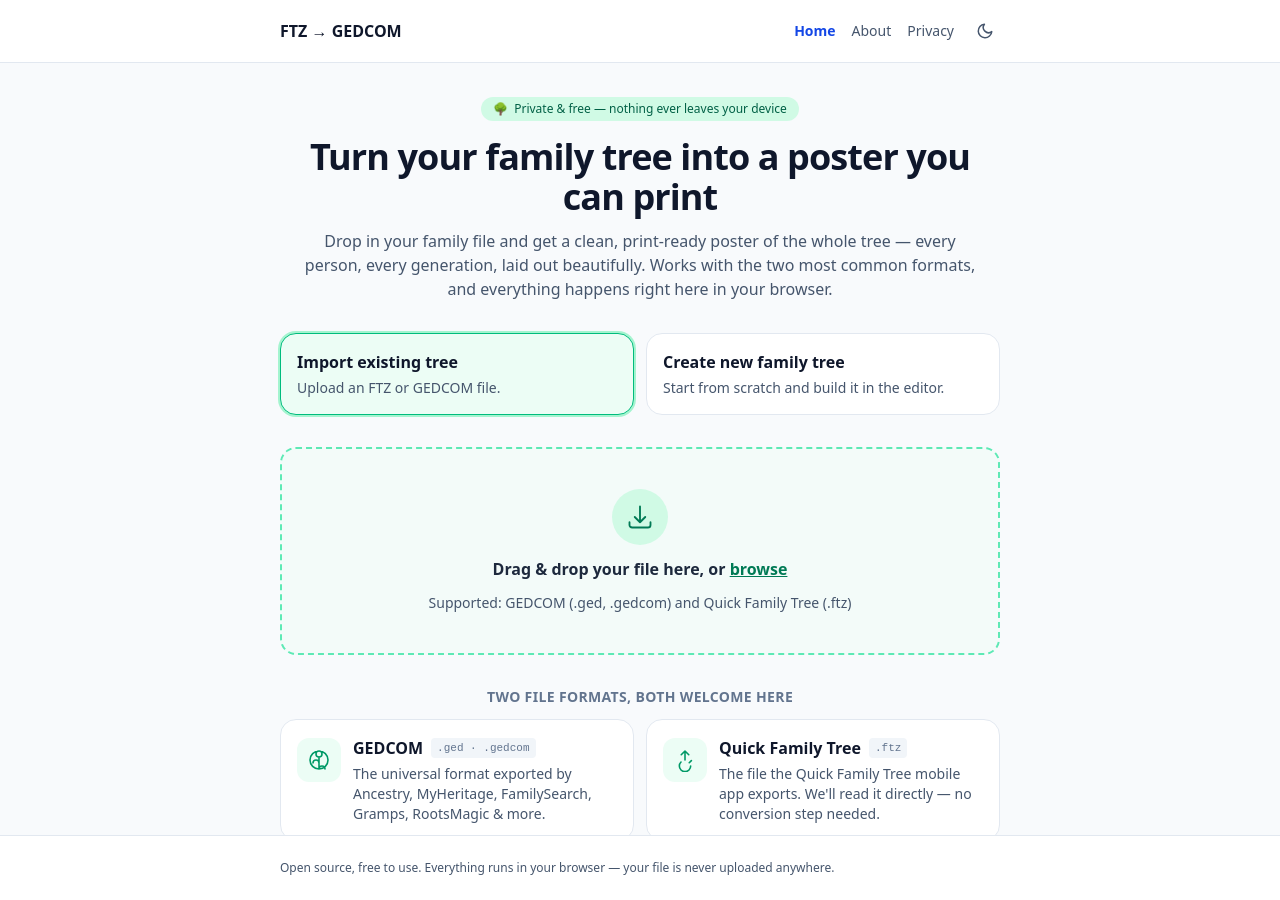
Test case: Create new family tree › keeps the upload flow available under Import existing tree
Expected: the text "Drag & drop your file here, or browse" is shown, [493,557,788,581]
What coordinates should you click on to do the following:
click the button "Create new family tree"
I would click on:
 (823, 374)
Its box is [646,333,1000,415].
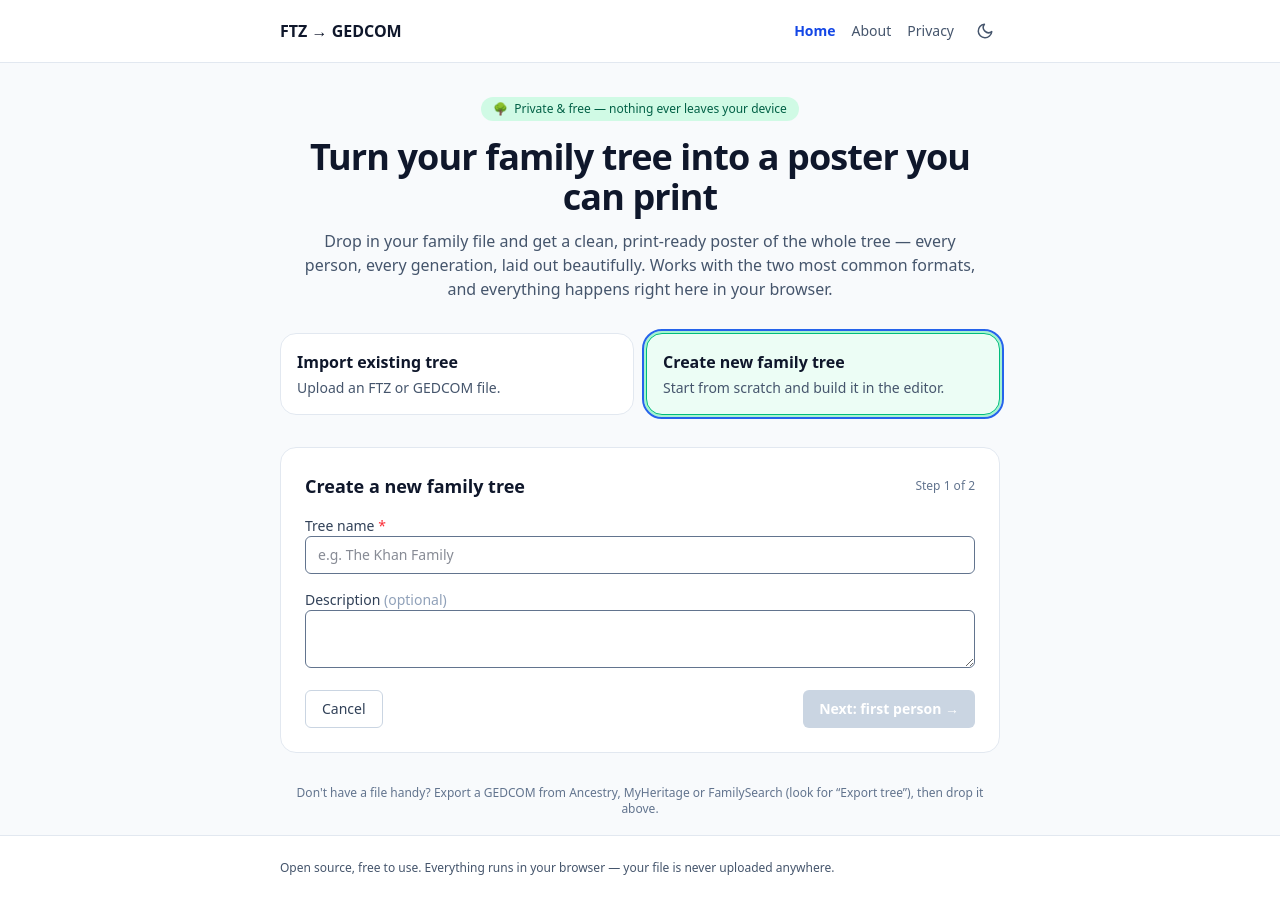
Expected: the text "Drag & drop your" is gone
# …and back to import restores it.
What coordinates should you click on to do the following:
click the button "Import existing tree Upload an FTZ or GEDCOM file."
I would click on:
 (457, 374)
Its box is [280,333,634,415].
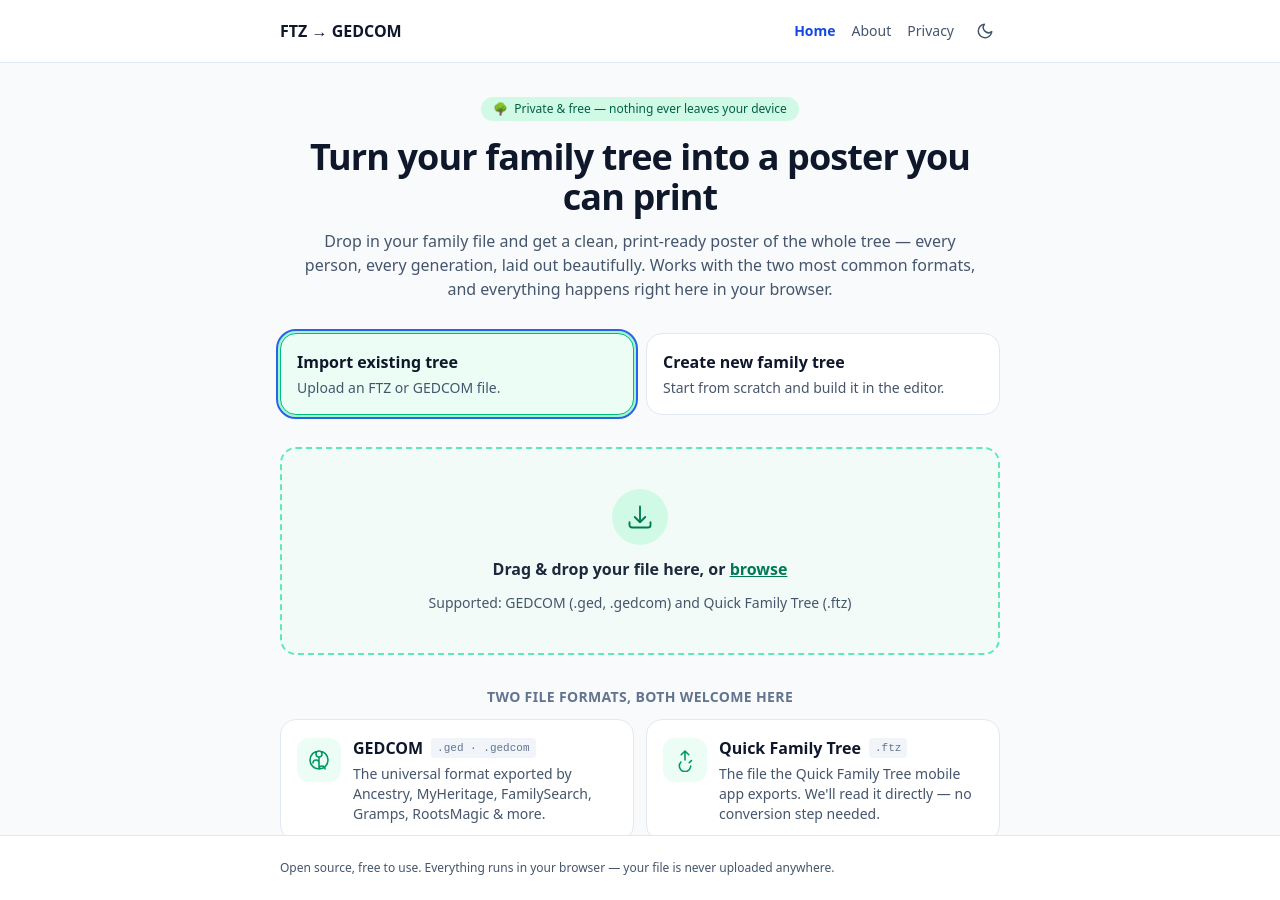
Expected: the text "Drag & drop your file here, or browse" is shown, [493,557,788,581]
